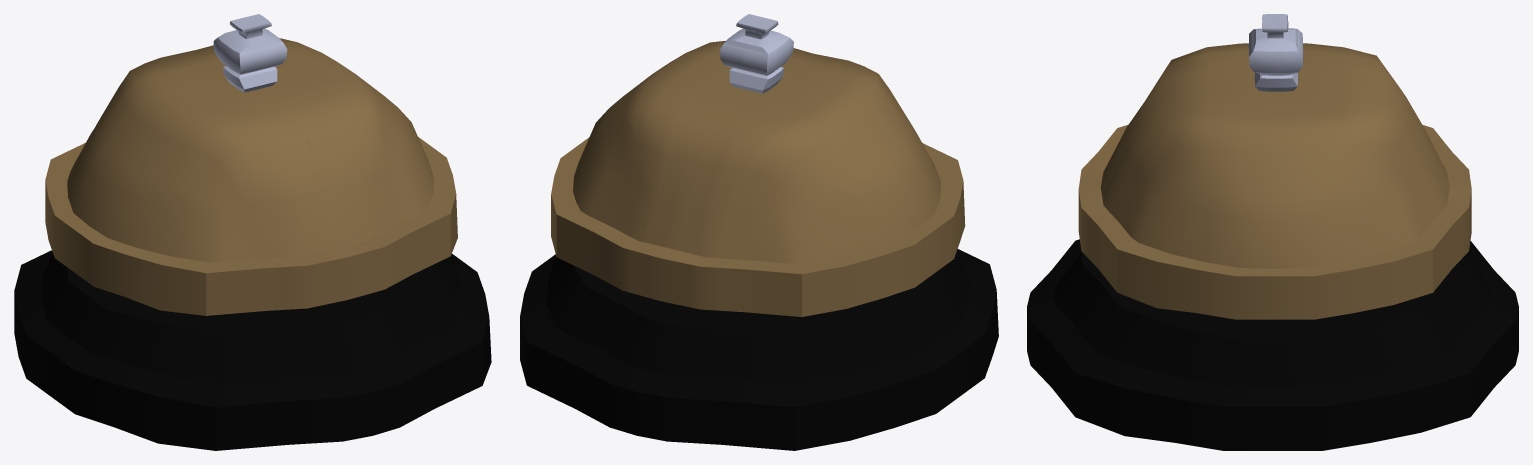
File: bell.fbx
The picture shows the model from 3 angles, left to right: view 1: azimuth 30°, elevation 25°; view 2: azimuth 150°, elevation 25°; view 3: azimuth 270°, elevation 25°; orthographic projection.
Parts seen in each view (by area): view 1: bell top, bell bottom; view 2: bell top, bell bottom; view 3: bell top, bell bottom.
Boxes of the visible parts, x1,y1,x2,y2 form: bell top: (45,14,457,315); bell bottom: (14,250,491,450); bell top: (551,14,965,316); bell bottom: (520,249,998,450); bell top: (1078,14,1471,319); bell bottom: (1027,239,1518,450).
Size of the model in its own units: 0.1554 by 0.1206 by 0.1619.
Materials: 2 (1 with a texture image).
